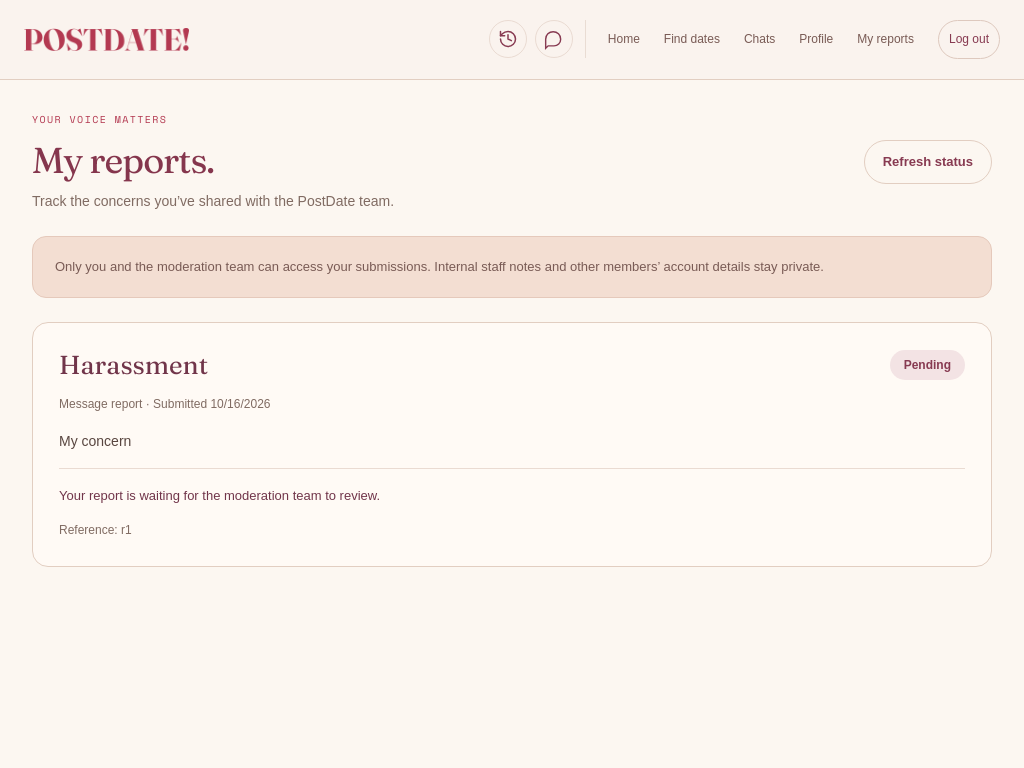
Scenario: shows reports and refreshes the admin decision
This screenshot has width=1024, height=768.
expect the text "Pending" is shown: met, box [890,350,965,380]
expect the text "My concern" is shown: met, box [59,433,131,449]
What coordinates should you click on to do the following:
click the button "Refresh status"
I would click on:
 (928, 162)
Its box is [864,140,992,184].
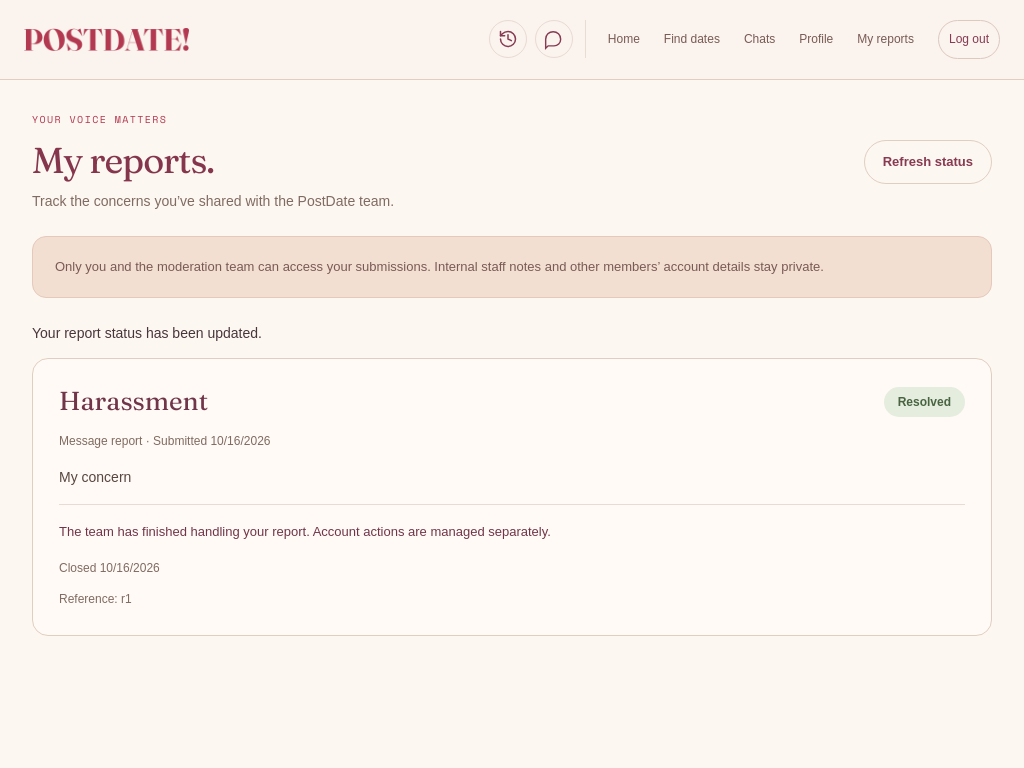
expect the text "Resolved" is shown: met, box [884,387,965,417]
expect the text "finished handling" is shown: met, box [59,524,551,539]
